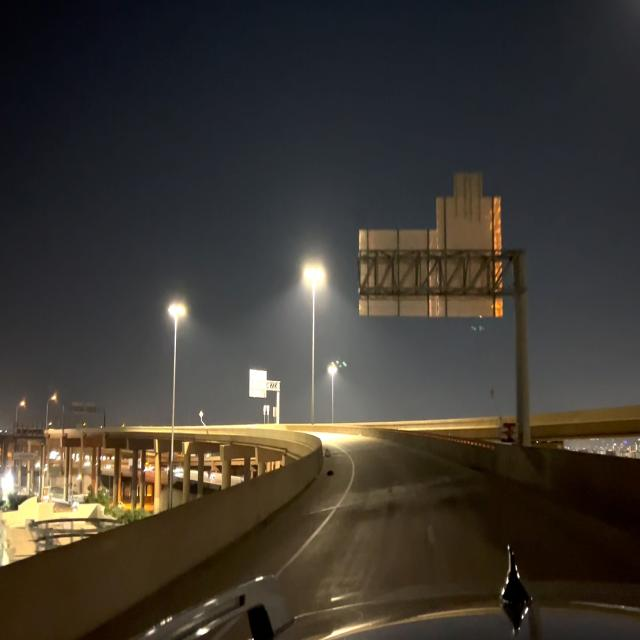back-of-sign: (359, 230, 506, 318), (437, 198, 500, 228), (455, 172, 481, 193)
